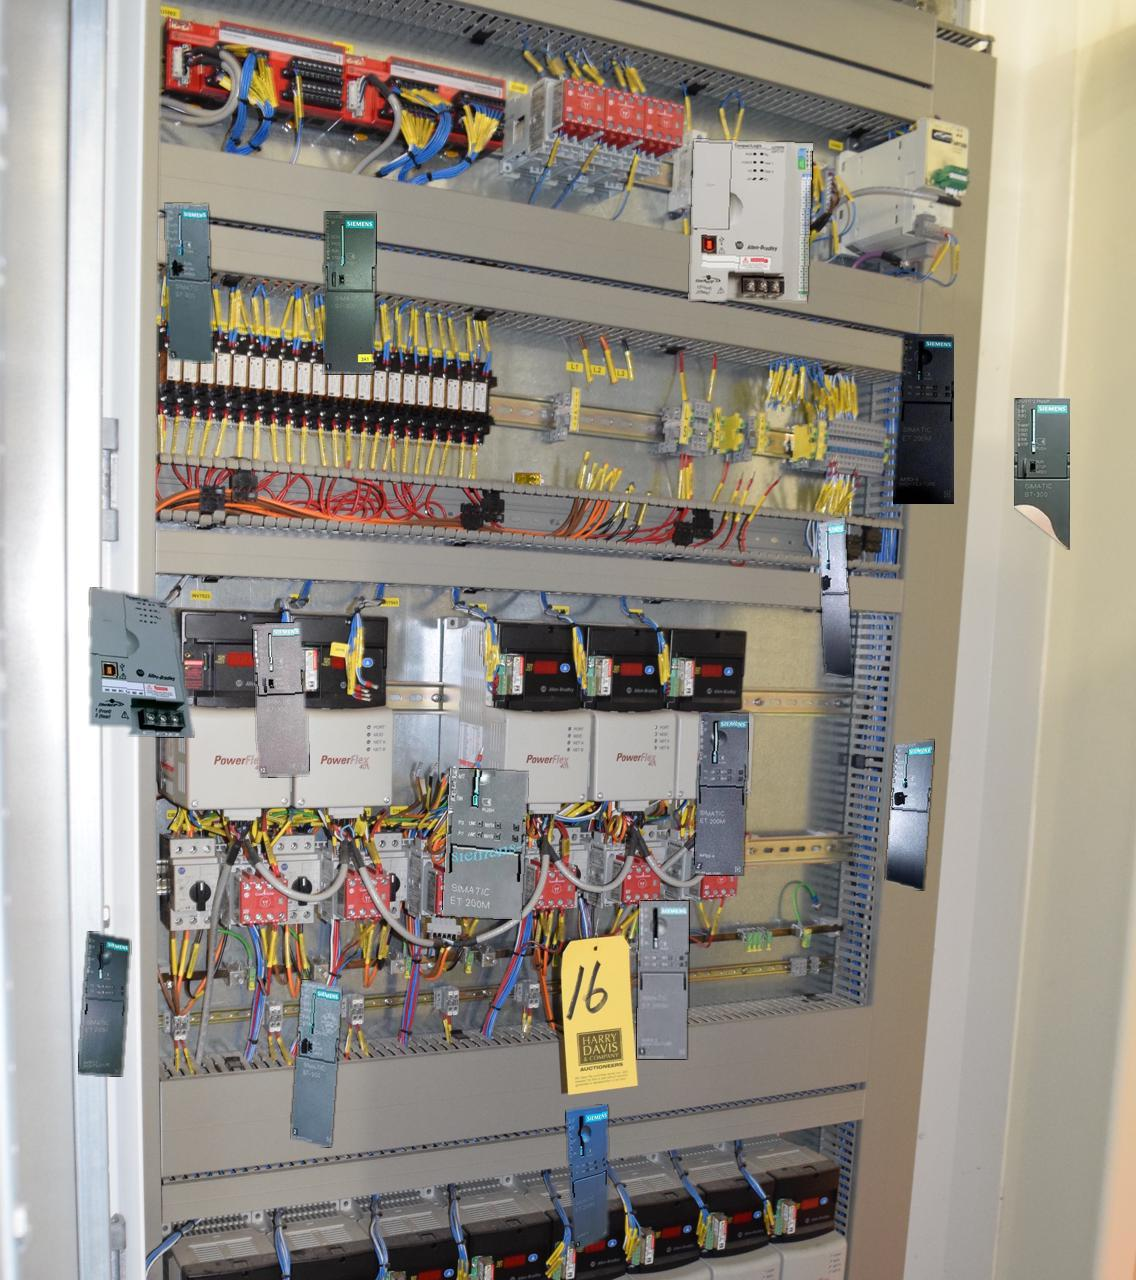AllenBradley: (689, 140, 813, 301), (90, 587, 193, 737)
Siemens: (252, 622, 309, 777), (323, 212, 375, 373), (1014, 398, 1069, 550), (292, 979, 340, 1146), (164, 204, 212, 362), (885, 740, 933, 890), (818, 517, 852, 675)
